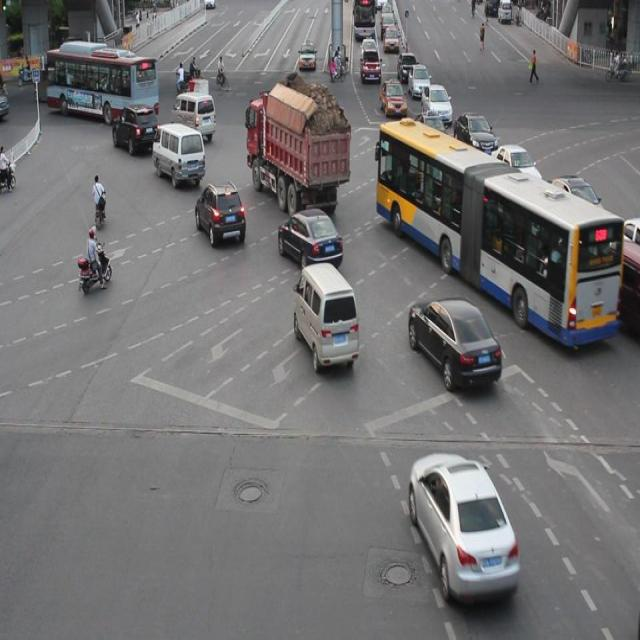bus: (245, 92, 350, 214)
car: (409, 451, 518, 601), (408, 294, 500, 390), (545, 173, 609, 242), (278, 207, 342, 269), (520, 223, 576, 287), (195, 182, 247, 246), (488, 140, 540, 198), (466, 175, 518, 232), (614, 239, 640, 335), (112, 102, 158, 153), (452, 111, 495, 156), (409, 110, 449, 155), (617, 215, 640, 263)
truck: (293, 260, 358, 367), (151, 123, 204, 184), (171, 92, 215, 143)
van: (377, 121, 619, 344)
